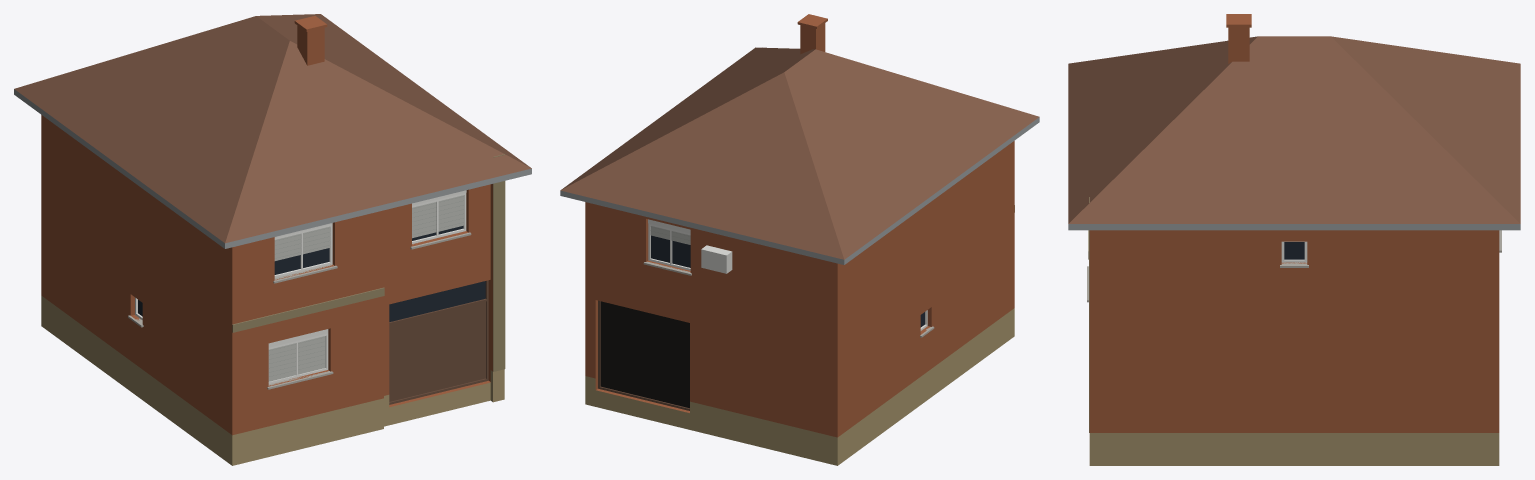
Rendered from kolodvorska642.glb.
3 views of the same model, side by side, from view 1: azimuth 30°, elevation 25°; view 2: azimuth 150°, elevation 25°; view 3: azimuth 270°, elevation 25° (orthographic). The views are drawn at different scales.
Parts seen in each view (by area): view 1: Kolodvorska 642; view 2: Kolodvorska 642; view 3: Kolodvorska 642.
Part boxes in pixels (left/top/right/bottom): Kolodvorska 642: left=14, top=14, right=531, bottom=465; Kolodvorska 642: left=560, top=14, right=1039, bottom=465; Kolodvorska 642: left=1068, top=14, right=1520, bottom=465.
Bounding box in the file's own units: 8.9 × 9.87 × 10.6.
